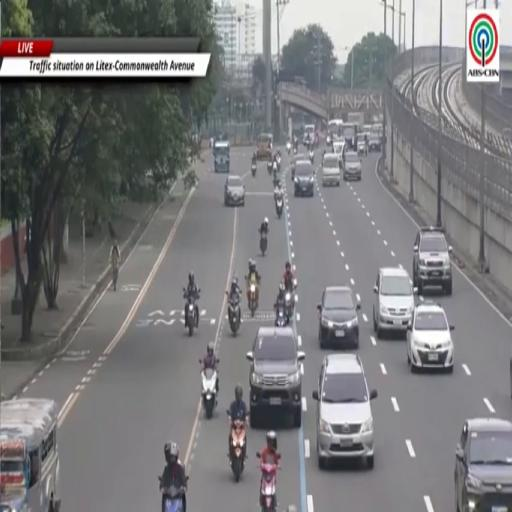car: (313, 354, 377, 469), (247, 327, 305, 427), (455, 418, 511, 511), (407, 301, 454, 373), (373, 267, 417, 338), (413, 227, 452, 295), (318, 285, 360, 348), (294, 160, 314, 197), (322, 153, 341, 186), (225, 175, 245, 205), (343, 151, 362, 181), (369, 123, 383, 151), (291, 153, 308, 173), (333, 139, 345, 163), (357, 133, 368, 156), (369, 133, 381, 152)
jeepney: (0, 398, 61, 511), (212, 141, 230, 173), (256, 134, 272, 159)
motorcycle: (230, 421, 246, 482), (261, 460, 278, 511), (202, 368, 217, 419), (184, 288, 197, 337), (162, 486, 185, 511), (285, 279, 297, 322), (228, 299, 241, 335), (248, 280, 257, 317), (285, 291, 294, 322), (275, 307, 288, 327), (260, 232, 267, 255), (276, 196, 283, 218), (273, 162, 278, 186), (276, 155, 281, 171), (309, 150, 314, 164), (251, 164, 256, 177), (286, 142, 291, 154), (267, 162, 272, 174), (291, 168, 295, 181), (327, 136, 331, 146), (294, 147, 297, 154)
truck: (348, 112, 364, 131)
